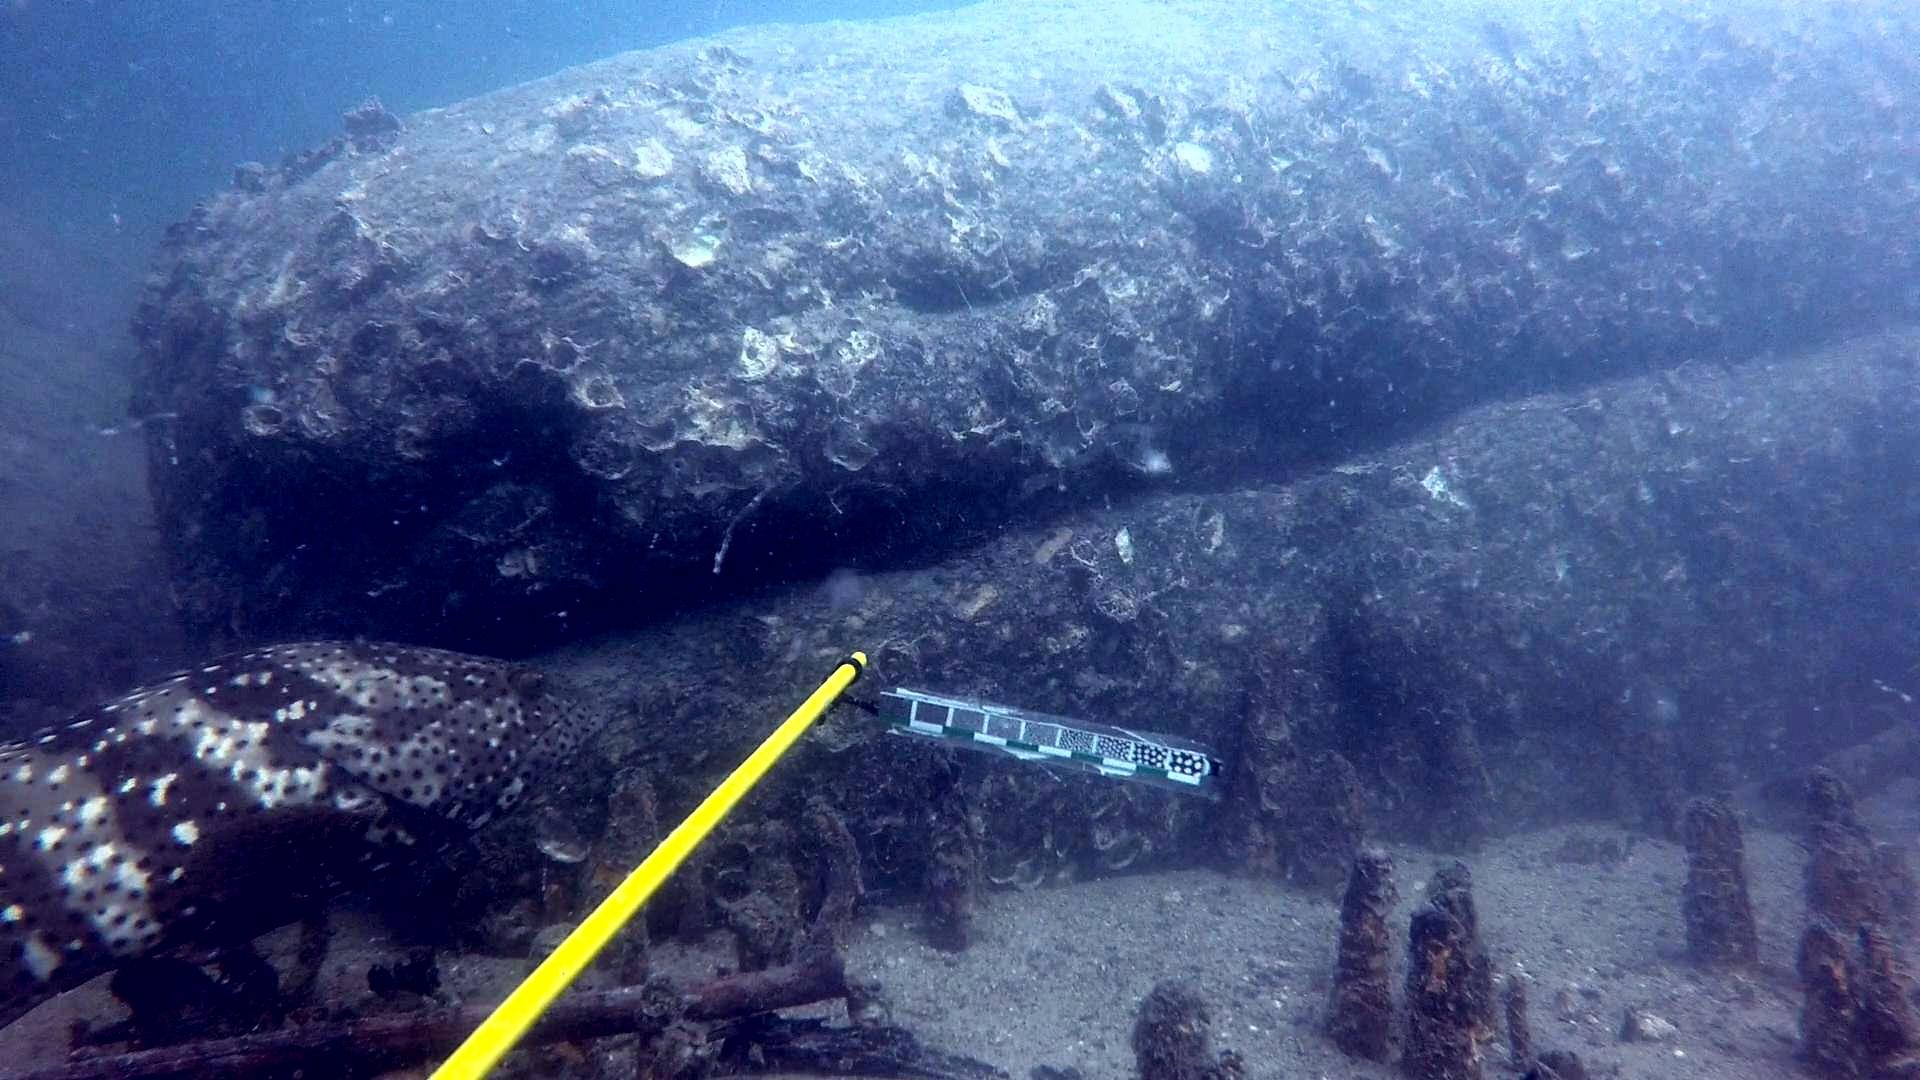epinephelus: (0, 636, 609, 1030)
